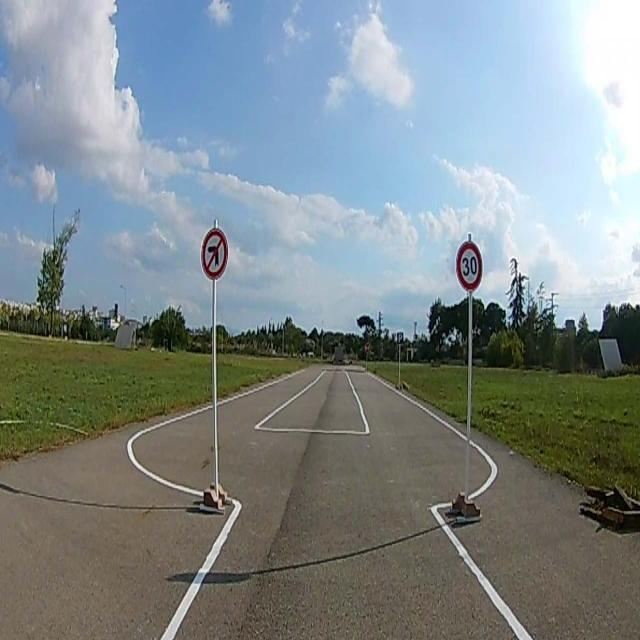30: (458, 240, 482, 292)
soladonulmez: (202, 230, 227, 276)
